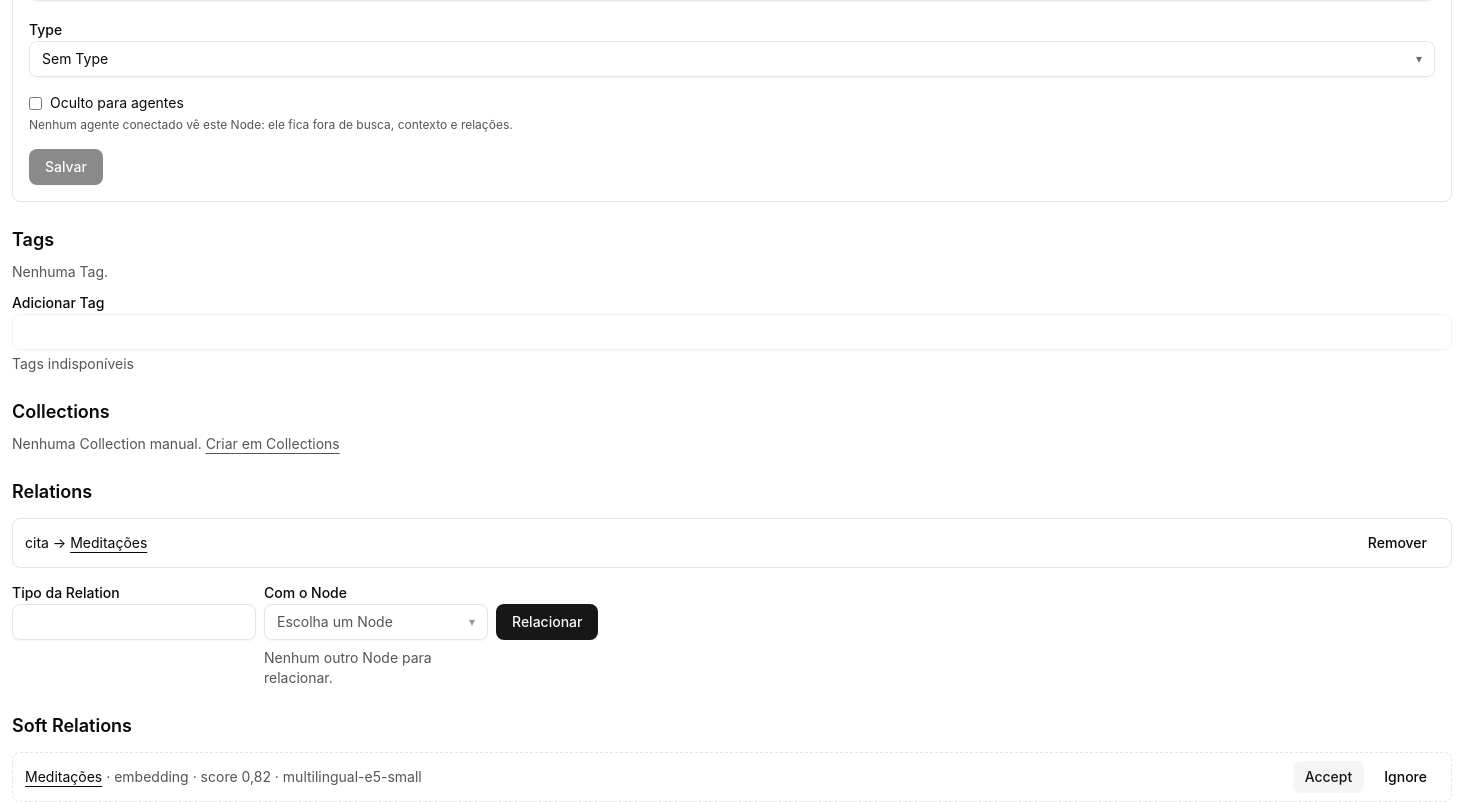
Test case: Soft Relations in the node inspector › accepts a Soft Relation and moves focus to the Relations once none is left
The width and height of the screenshot is (1464, 802).
(page scrolled)
Click the button with aria-label "Accept Soft Relation com Meditações" at (1328, 777), box [1293,761,1364,793]
(page scrolled)
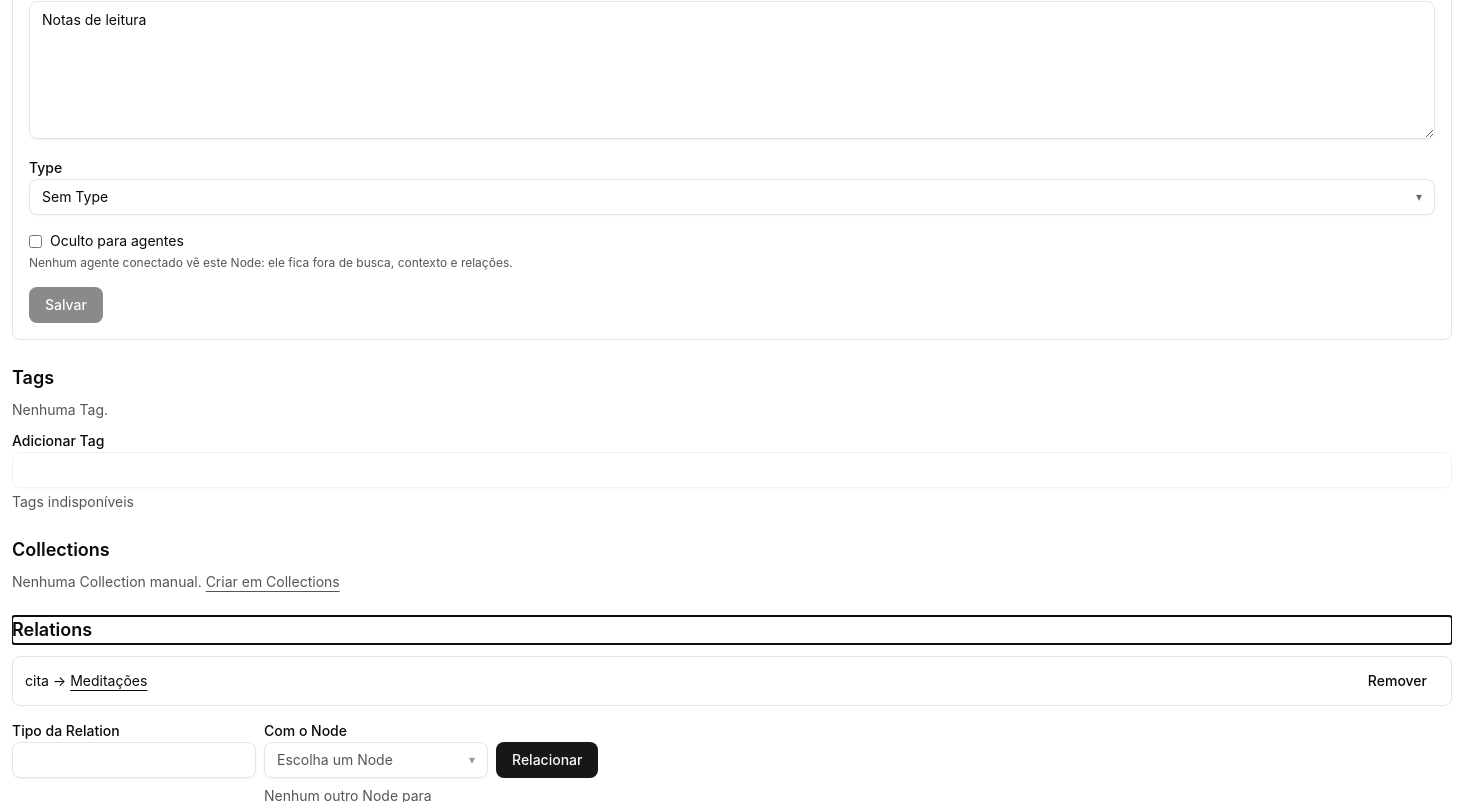
Expected: the heading "Soft Relations" is gone
